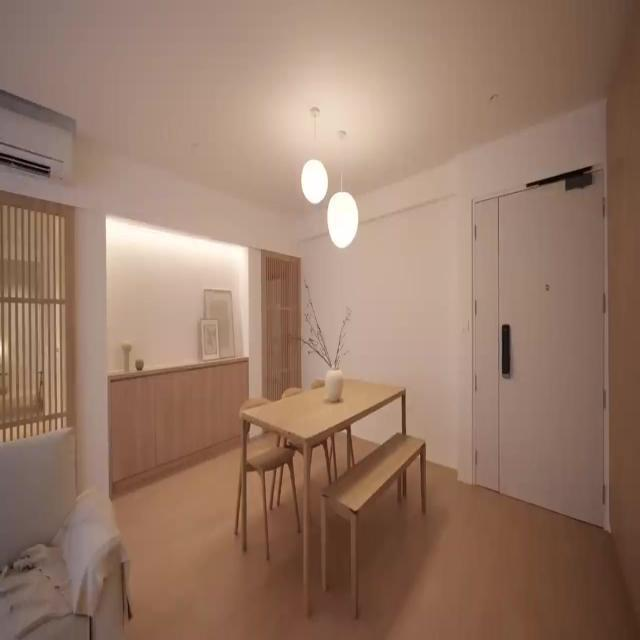door: (471, 164, 608, 530)
obstacle: (238, 377, 406, 616), (0, 424, 132, 638)
